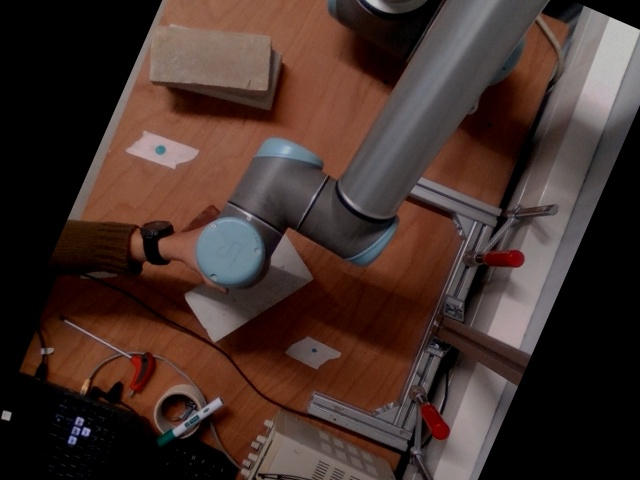brick: (149, 25, 270, 90)
